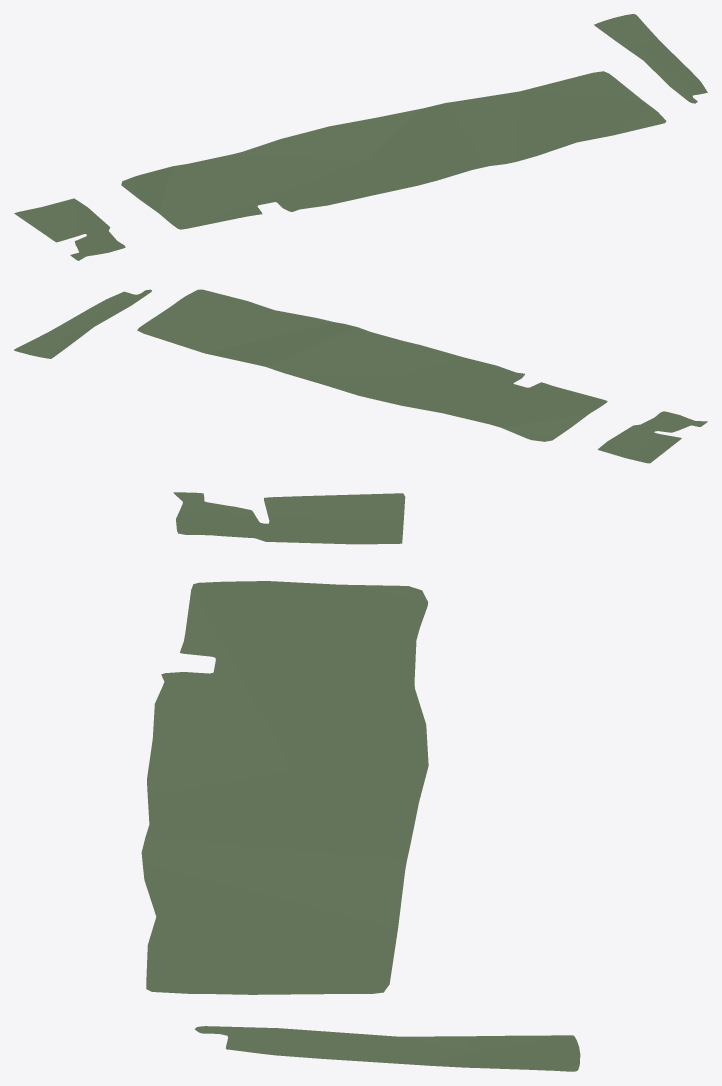
The model's file is site-land.glb.
3 renders of one model, top to bottom at view 1: azimuth 30°, elevation 25°; view 2: azimuth 150°, elevation 25°; view 3: azimuth 270°, elevation 25°, orthographic. The views are drawn at different scales.
Visible parts, largest first — view 1: site-land; view 2: site-land; view 3: site-land.
Boxes of the visible parts, bbox=[...] form: site-land: bbox=[14, 14, 707, 260]; site-land: bbox=[14, 289, 707, 463]; site-land: bbox=[141, 492, 580, 1071].
Size of the model in its own units: 230 by 1.77 by 73.6.
